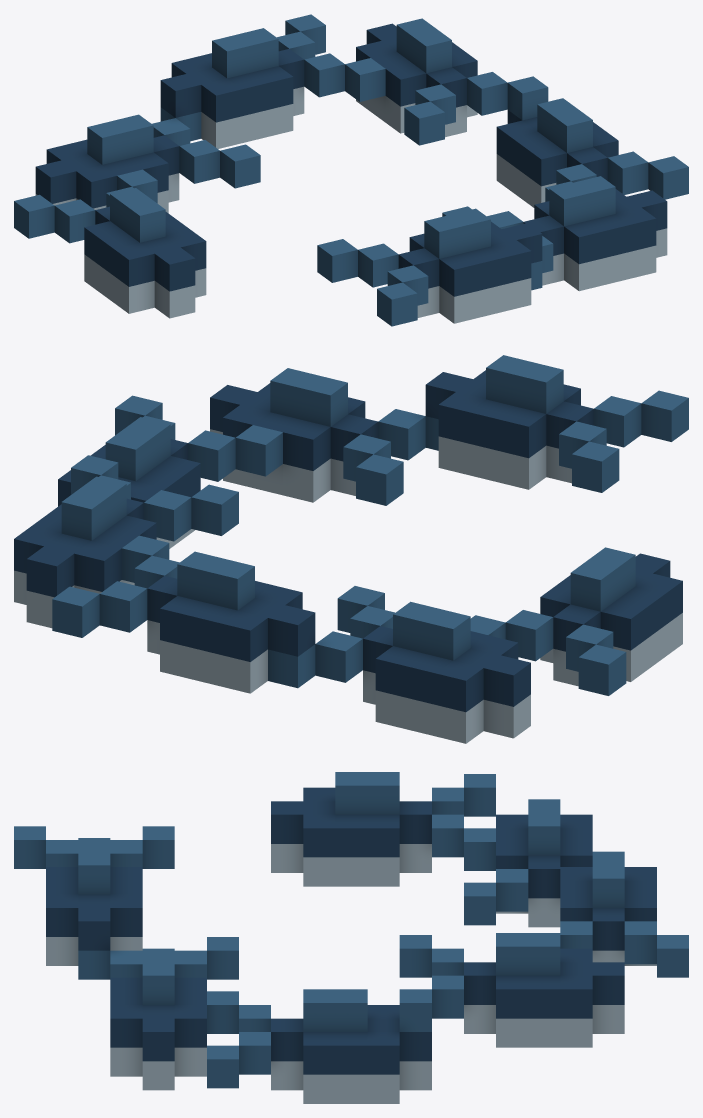
File: r_fish.glb
3 renders of one model, top to bottom at view 1: azimuth 30°, elevation 25°; view 2: azimuth 150°, elevation 25°; view 3: azimuth 270°, elevation 25°, orthographic. The views are drawn at different scales.
Visible parts, largest first — view 1: r_fish_body; view 2: r_fish_body; view 3: r_fish_body.
Boxes of the visible parts, left/top/right/bottom form: r_fish_body: left=14, top=14, right=688, bottom=326; r_fish_body: left=14, top=355, right=688, bottom=743; r_fish_body: left=14, top=772, right=688, bottom=1103.
Bounding box in the file's own units: 1.31 × 0.25 × 1.31.
1 material, 1 textured.
